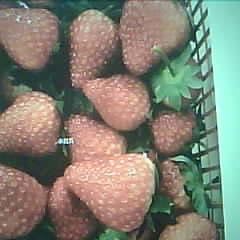straw-ripe: (66, 154, 153, 230), (120, 0, 189, 74), (69, 9, 121, 87), (0, 92, 59, 157), (0, 6, 59, 69), (85, 74, 149, 129)
